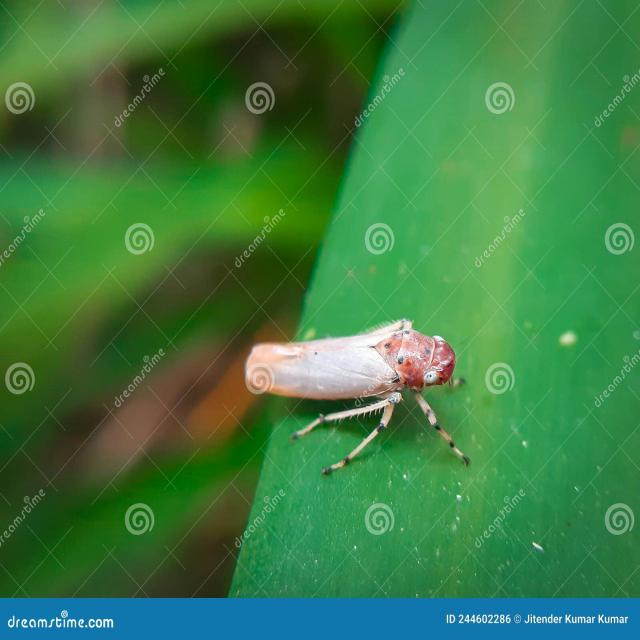Yechan: (228, 320, 460, 430)
